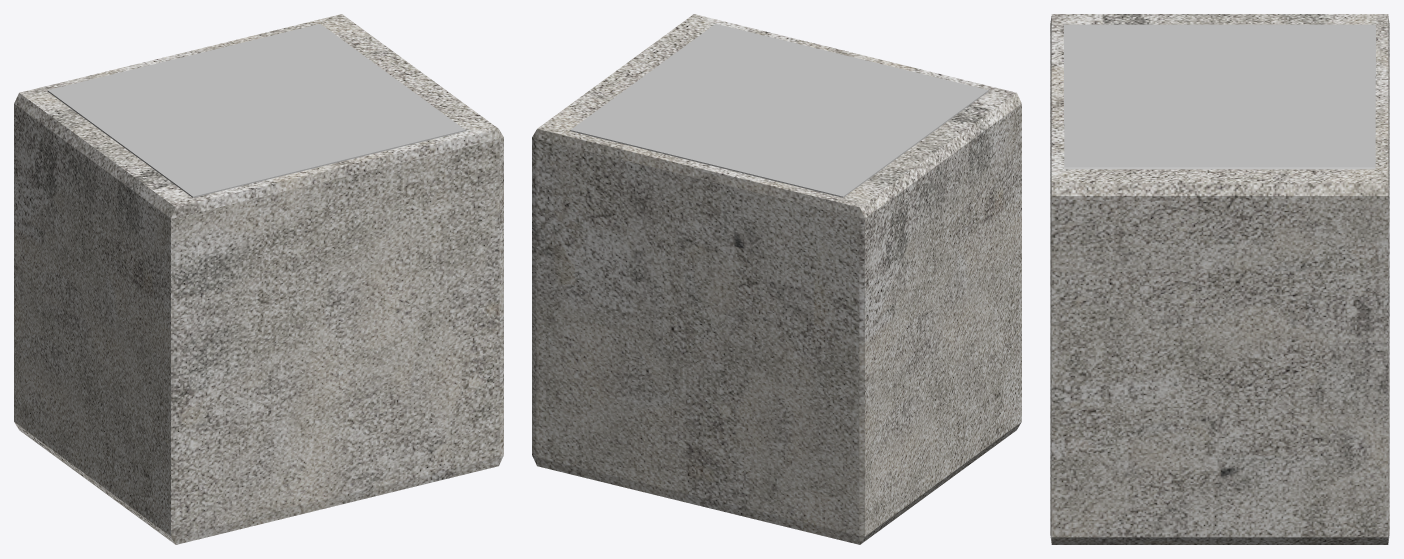
File: SM_HBJ_StoneB.fbx
3 views of the same model, side by side, from view 1: azimuth 30°, elevation 25°; view 2: azimuth 150°, elevation 25°; view 3: azimuth 270°, elevation 25° (orthographic). The views are drawn at different scales.
Visible parts, largest first — view 1: SM_HBJ_StoneB, SM_HBJ_StoneB_ConvexHulls; view 2: SM_HBJ_StoneB, SM_HBJ_StoneB_ConvexHulls; view 3: SM_HBJ_StoneB, SM_HBJ_StoneB_ConvexHulls.
Boxes of the visible parts, x1,y1,x2,y2 form: SM_HBJ_StoneB: [14, 14, 503, 544]; SM_HBJ_StoneB_ConvexHulls: [47, 24, 466, 197]; SM_HBJ_StoneB: [532, 14, 1021, 544]; SM_HBJ_StoneB_ConvexHulls: [569, 24, 988, 197]; SM_HBJ_StoneB: [1050, 14, 1389, 544]; SM_HBJ_StoneB_ConvexHulls: [1064, 24, 1375, 169].
Size of the model in its own units: 28.2 by 23.2 by 27.51.
Materials: 2 (1 with a texture image).
